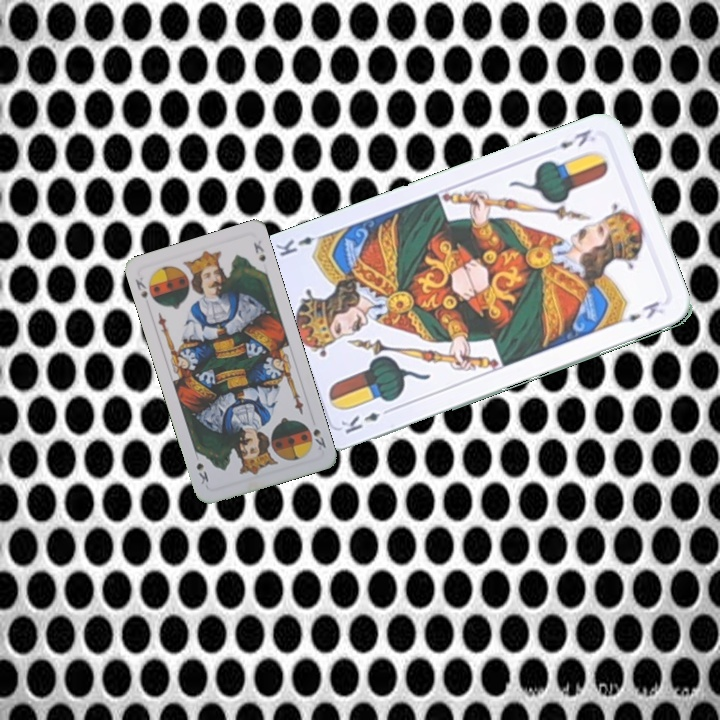EK: (336, 403, 395, 437), (555, 125, 594, 151)
SK: (131, 273, 158, 306), (309, 424, 329, 453)
